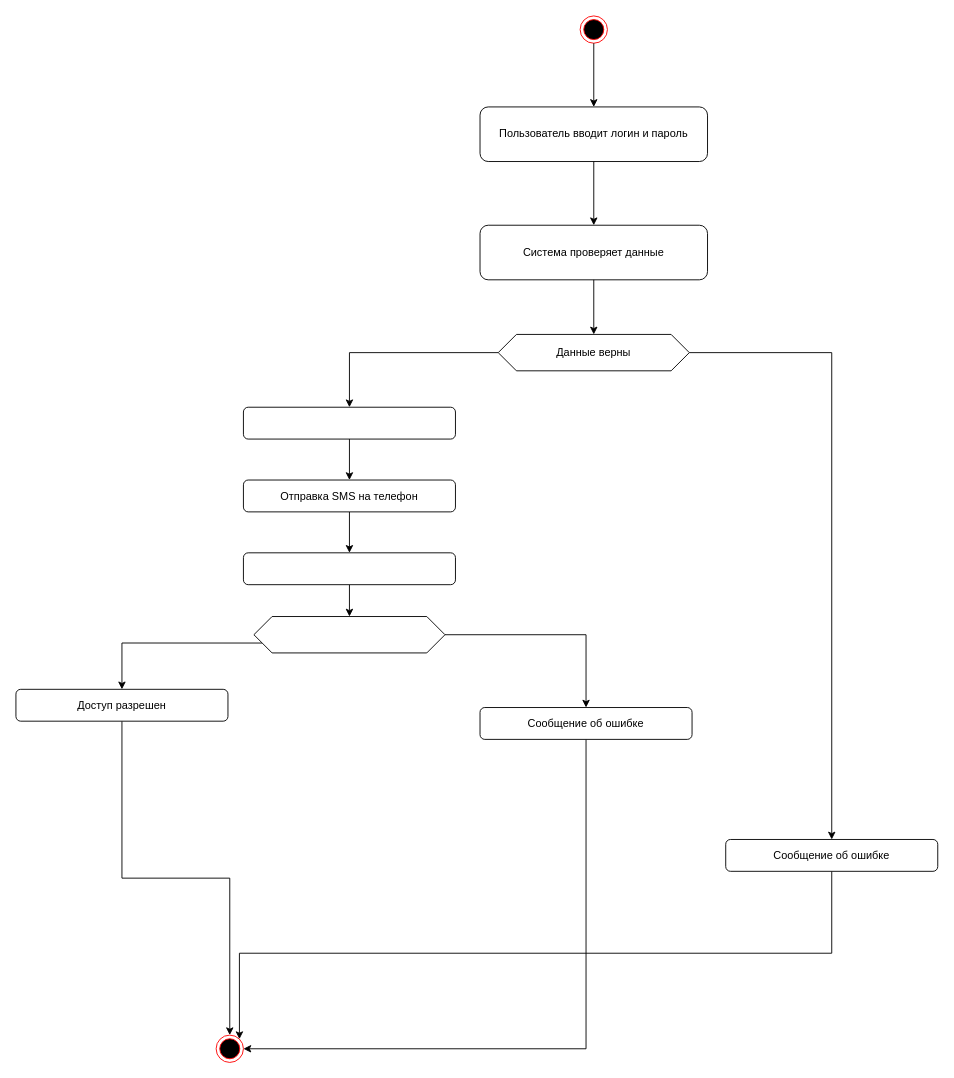
Some shapes in this 954 by 1078 pixel diagram are drawn without their labels. The shapes that lost their labels are listed below. From the top down, each one's centre as x and y in pixels, then its label:
At (349,422): "Генерация SMS кода".
At (349,568): "Пользователь вводит SMS код".
At (349,634): "Код верный".
